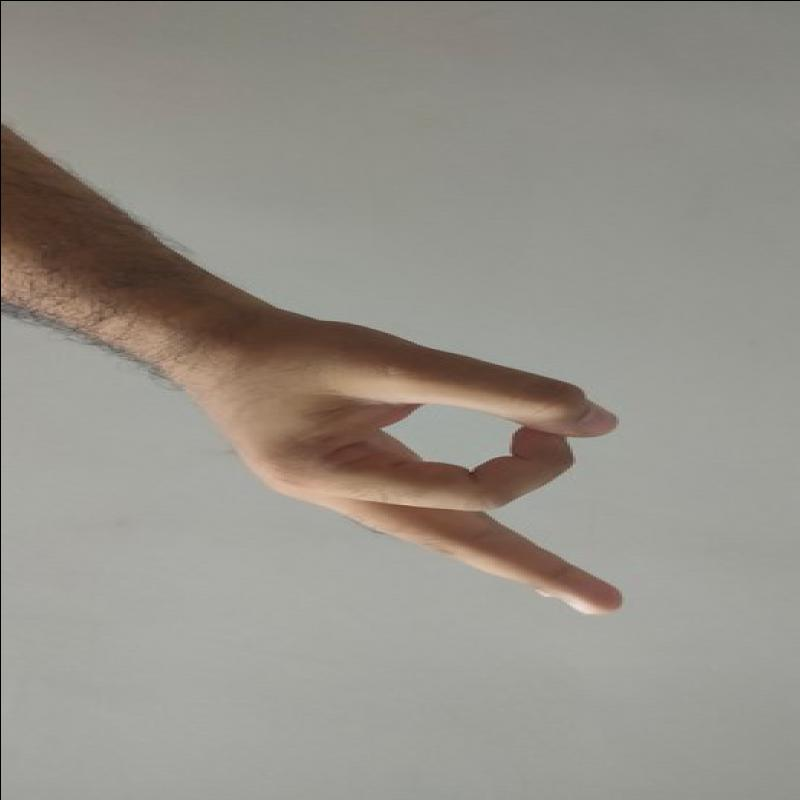Mudraakhyam: (214, 269, 641, 628)
